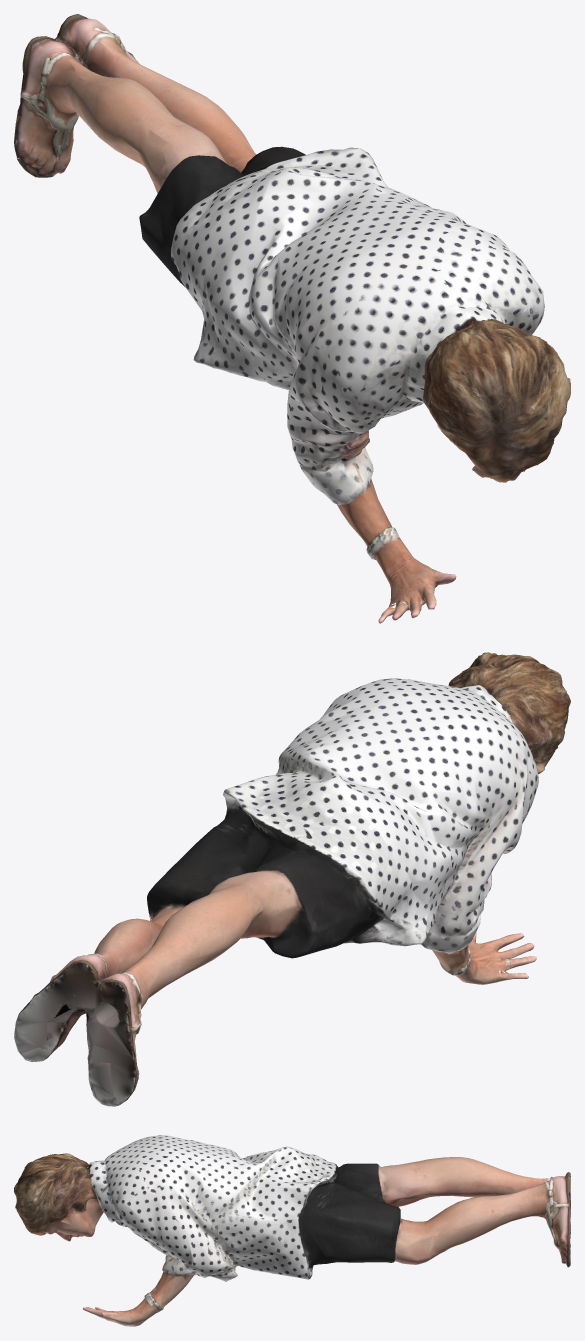
File: laoren3.glb
The picture shows the model from 3 angles, top to bottom: view 1: azimuth 30°, elevation 25°; view 2: azimuth 150°, elevation 25°; view 3: azimuth 270°, elevation 25°; orthographic projection. The views are drawn at different scales.
Parts seen in each view (by area): view 1: laoren3; view 2: laoren3; view 3: laoren3.
Part boxes in pixels (x1,y1,x2,y2): laoren3: [14, 14, 570, 623]; laoren3: [14, 652, 570, 1106]; laoren3: [14, 1135, 570, 1326].
Bounding box in the file's own units: 0.5113 × 0.6758 × 1.76.
Materials: 1 (1 with a texture image).
